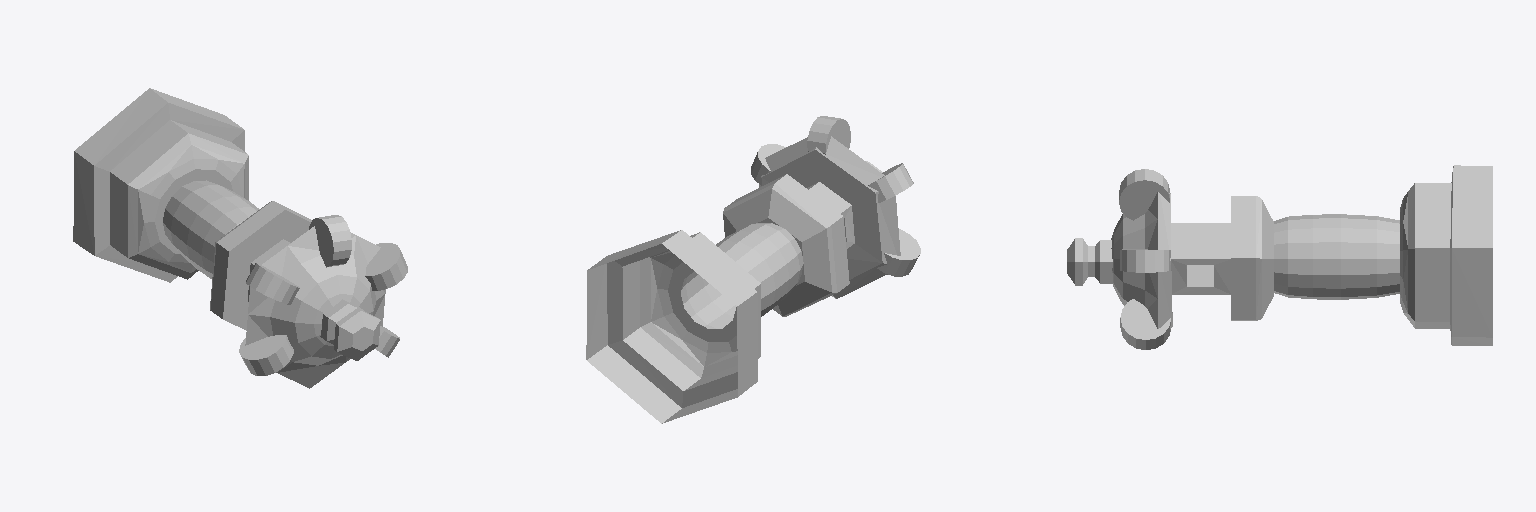
Rendered from SM_Lantern_01_triangles.obj.
3 renders of one model, left to right at view 1: azimuth 30°, elevation 25°; view 2: azimuth 150°, elevation 25°; view 3: azimuth 270°, elevation 25°, orthographic.
Bounding box in the file's own units: 12.24 × 12.97 × 27.74.